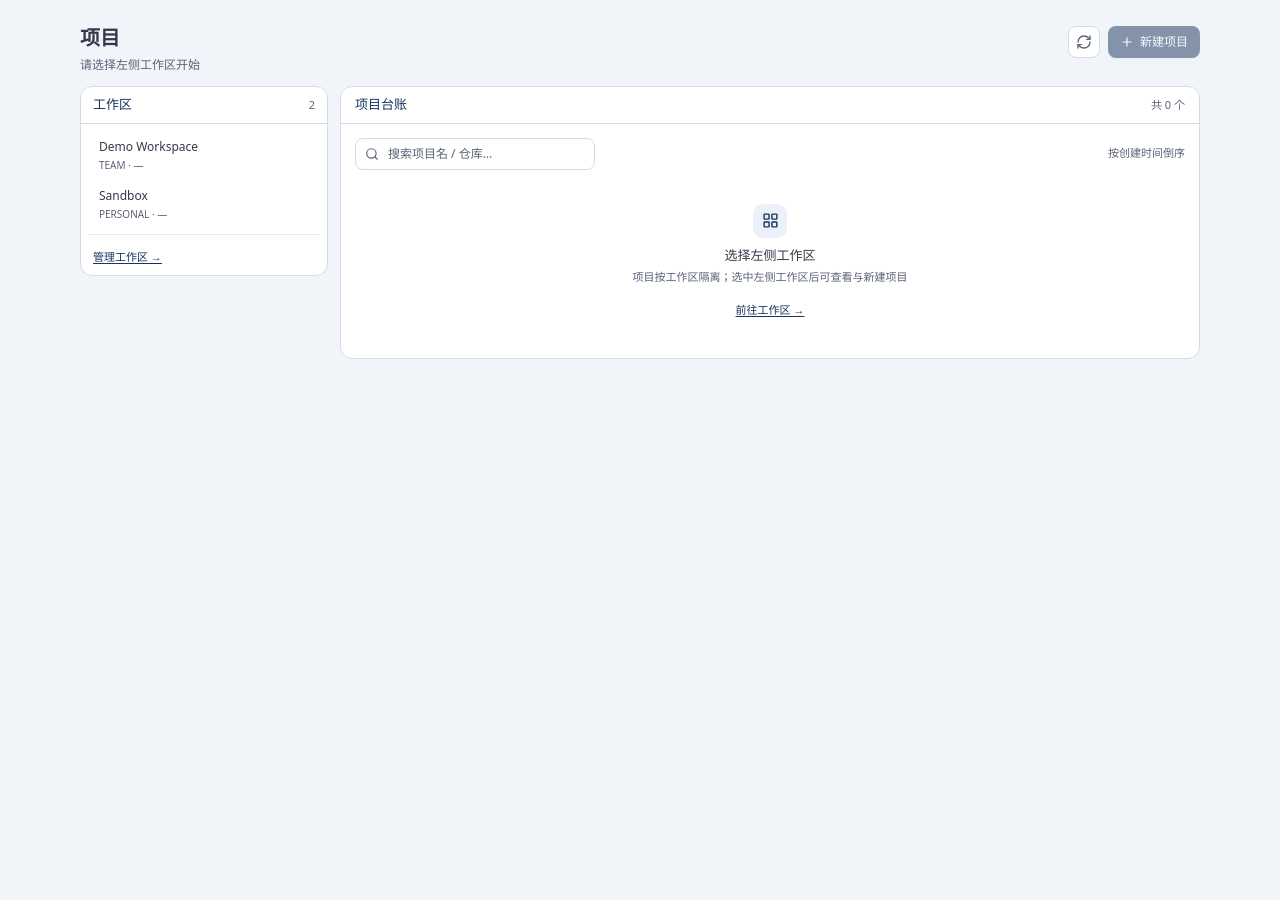
Test case: Projects › 文件浏览器：列表 + 内容预览
This screenshot has width=1280, height=900.
Click the button "Demo Workspace TEAM · —": (204, 155) [89, 132, 319, 178]
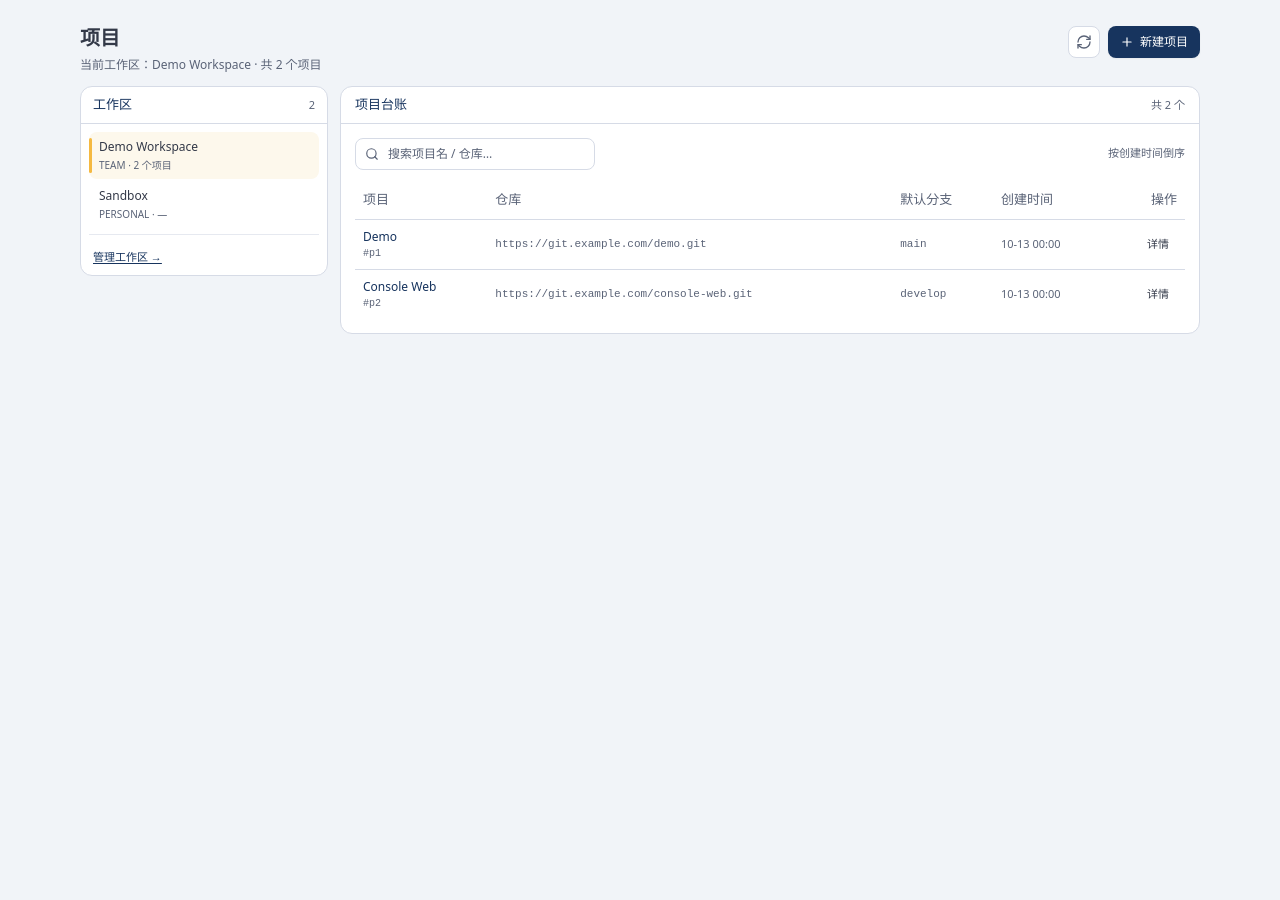
Click the button with test id "project-select-p1": (1158, 244) [1139, 232, 1177, 256]
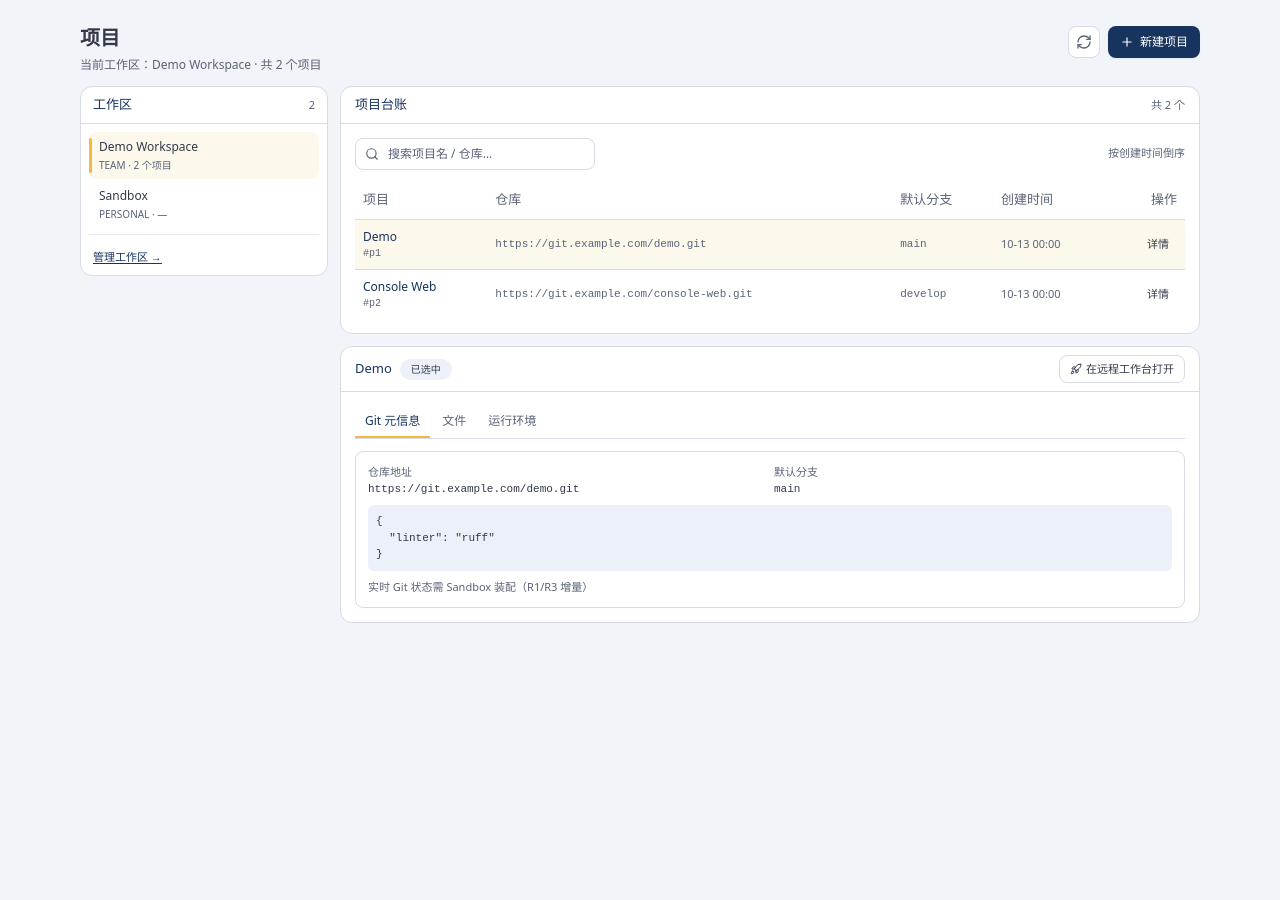
Click the tab with test id "project-detail-tab-files": (454, 422) [432, 406, 476, 438]
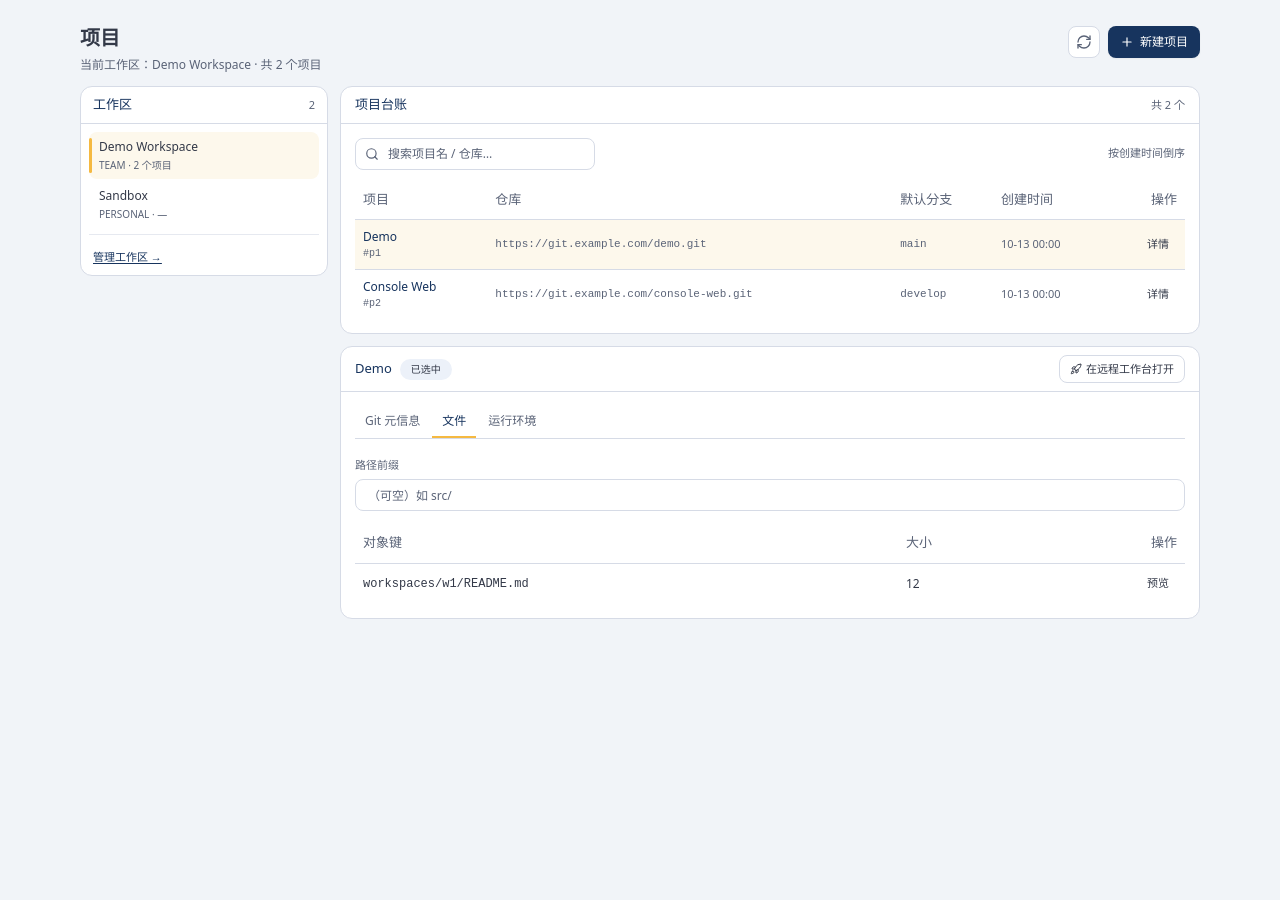
expect the row with test id "file-row-workspaces/w1/README.md" is shown: met, box [355, 563, 1185, 604]
Click the button with test id "file-preview-workspaces/w1/README.md": (1158, 584) [1139, 572, 1177, 596]
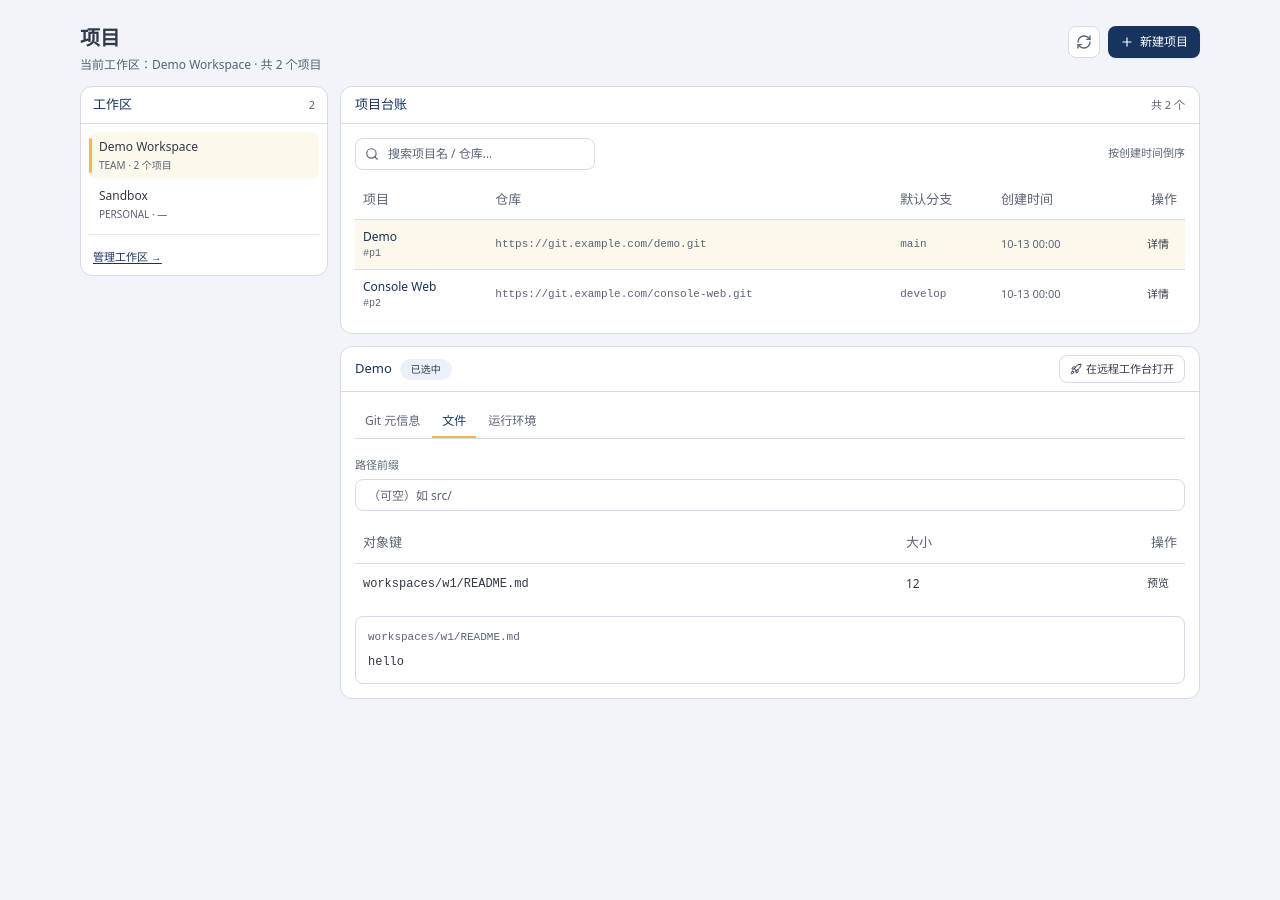
expect the element with test id "file-preview" shows "hello": met, box [368, 655, 404, 669]
